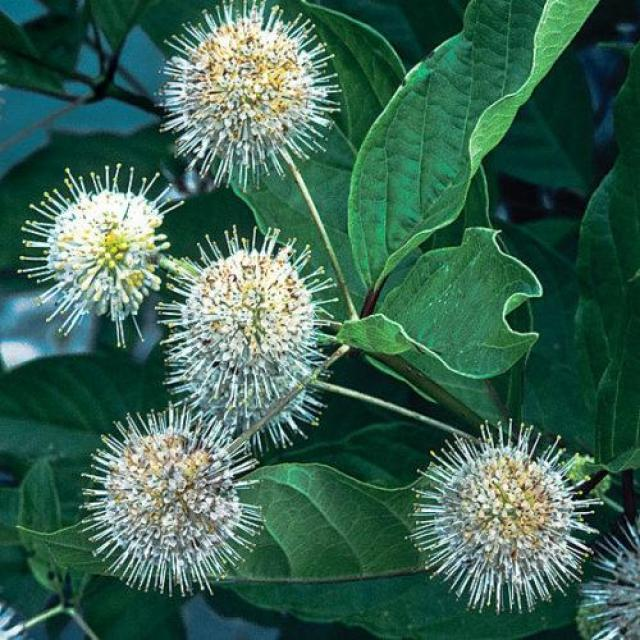organic waste: (156, 12, 365, 182), (75, 418, 269, 588), (419, 429, 595, 614), (162, 242, 332, 420), (16, 162, 172, 328)
